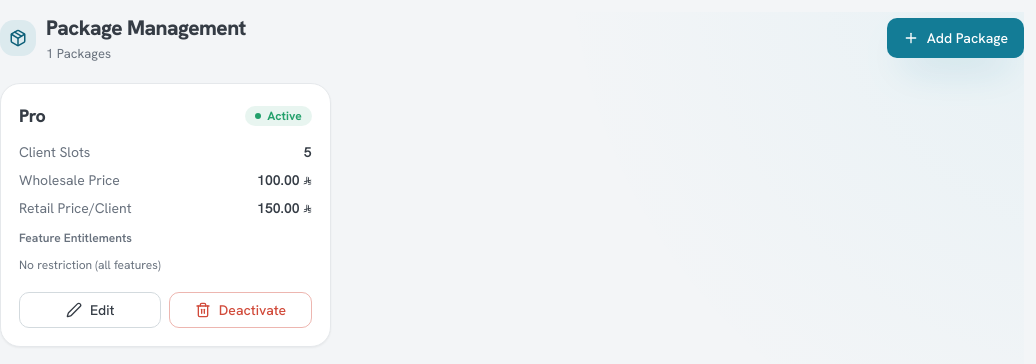
PackageManagement deactivate blast-radius (#236 A3) › does not show the affected-agents warning when no agents are on the package
What coordinates should you click on to do the following:
click the button "Deactivate"
I would click on:
 (240, 310)
Its box is x1=169 y1=292 x2=312 y2=328.
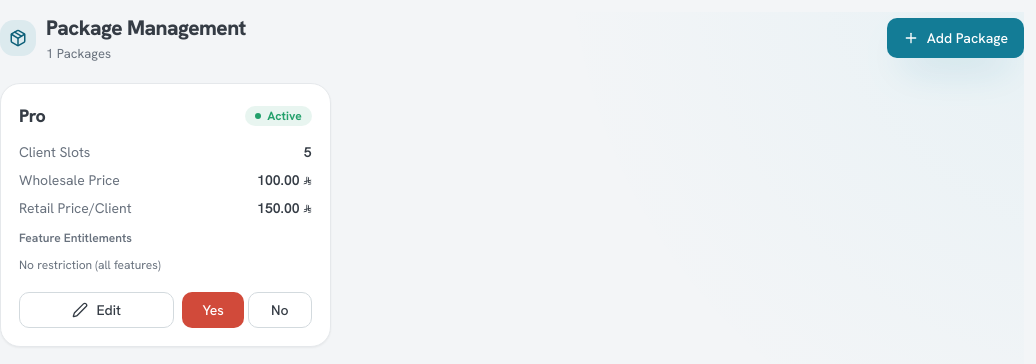
Expected: the button "Yes" is shown, x1=182 y1=292 x2=244 y2=328
